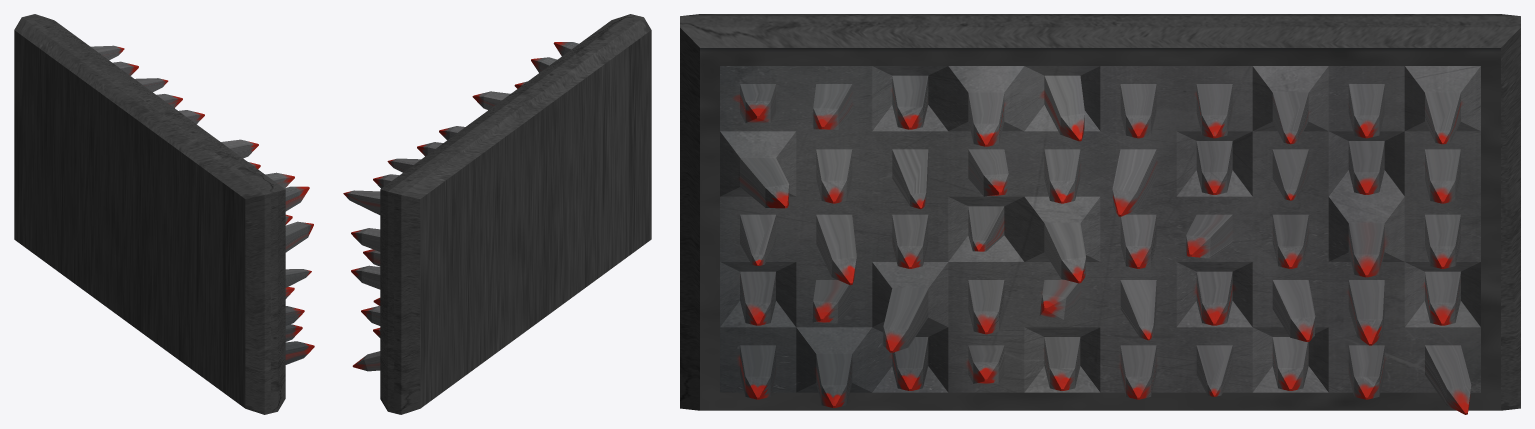
Rendered from SpikeWall.fbx.
3 renders of one model, left to right at view 1: azimuth 30°, elevation 25°; view 2: azimuth 150°, elevation 25°; view 3: azimuth 270°, elevation 25°, orthographic. The views are drawn at different scales.
Visible parts, largest first — view 1: SpikeWall; view 2: SpikeWall; view 3: SpikeWall.
Part boxes in pixels (x1=…): SpikeWall: x1=14, y1=14, x2=314, y2=414; SpikeWall: x1=343, y1=14, x2=651, y2=414; SpikeWall: x1=680, y1=14, x2=1520, y2=414.
Bounding box in the file's own units: 1050 × 239 × 525.
Materials: 1 (1 with a texture image).
